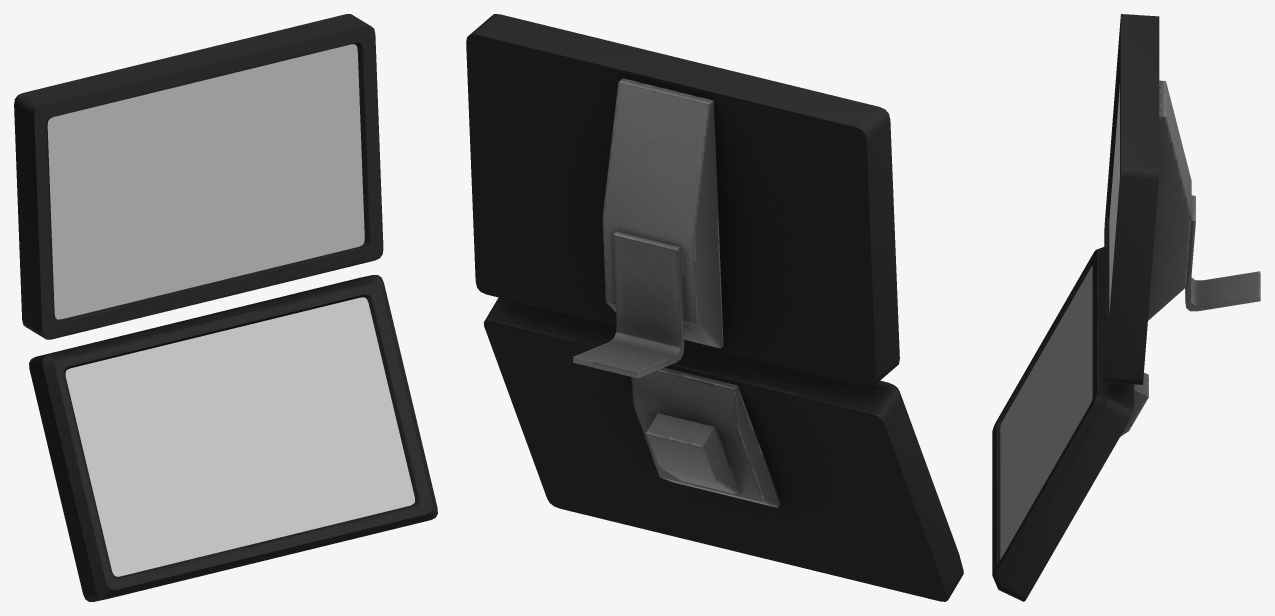
Rendered from Console Small.fbx.
The picture shows the model from 3 angles, left to right: view 1: azimuth 30°, elevation 25°; view 2: azimuth 150°, elevation 25°; view 3: azimuth 270°, elevation 25°; orthographic projection. The views are drawn at different scales.
Parts seen in each view (by area): view 1: Bottom_Console, Top_Screen, Console_Small; view 2: Console_Small; view 3: Console_Small, Bottom_Console, Top_Screen.
Part boxes in pixels (box(x1,y1,x2,y2)): Bottom_Console: box(65, 297, 414, 576); Top_Screen: box(47, 44, 364, 319); Console_Small: box(14, 14, 437, 601); Console_Small: box(466, 14, 963, 601); Console_Small: box(992, 14, 1260, 601); Bottom_Console: box(1000, 265, 1092, 559); Top_Screen: box(1109, 85, 1119, 313).
Bounding box in the file's own units: 32.86 × 42.24 × 23.6.
